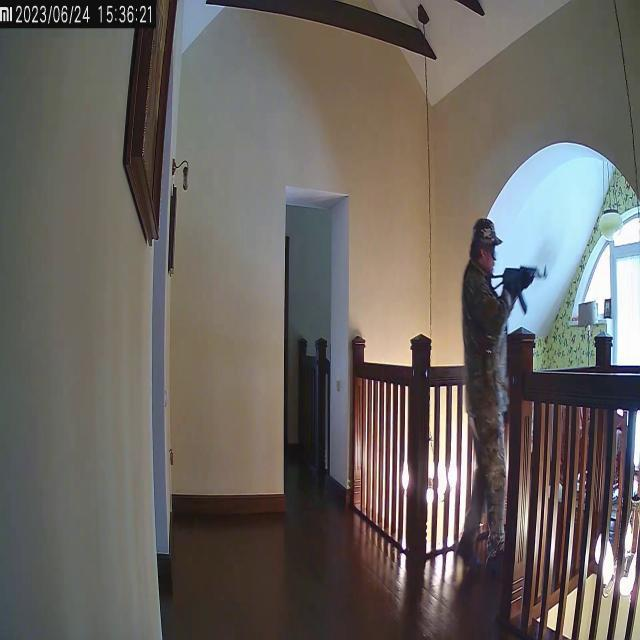gun: (459, 216, 550, 568), (488, 260, 550, 296)
